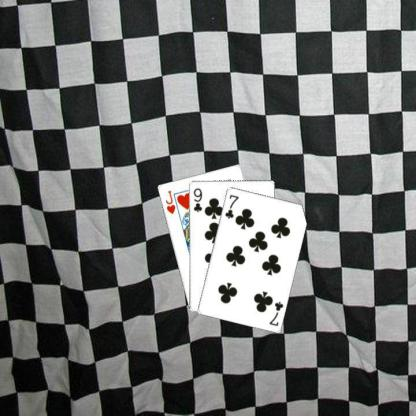7C: (266, 299, 284, 327), (222, 192, 240, 219)
9C: (190, 186, 202, 213)
JH: (163, 188, 176, 215)
